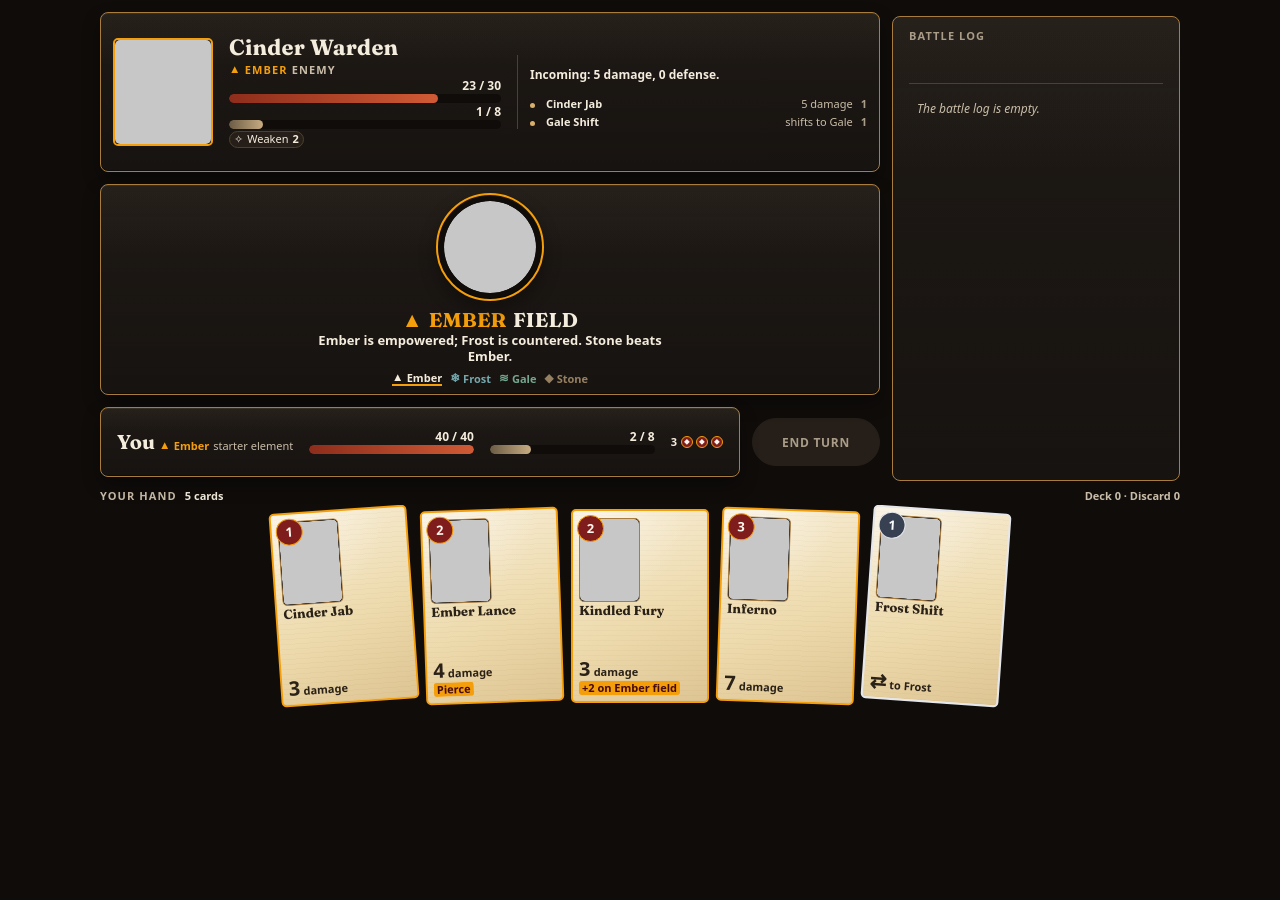
Scenario: BattleBoard state matrix › keeps ended-battle cards inspectable while Play is disabled
Click the button with aria-label "1 energy, Cinder Jab, Ember attack, 3 damage" at (344,606), box [268,504,420,708]
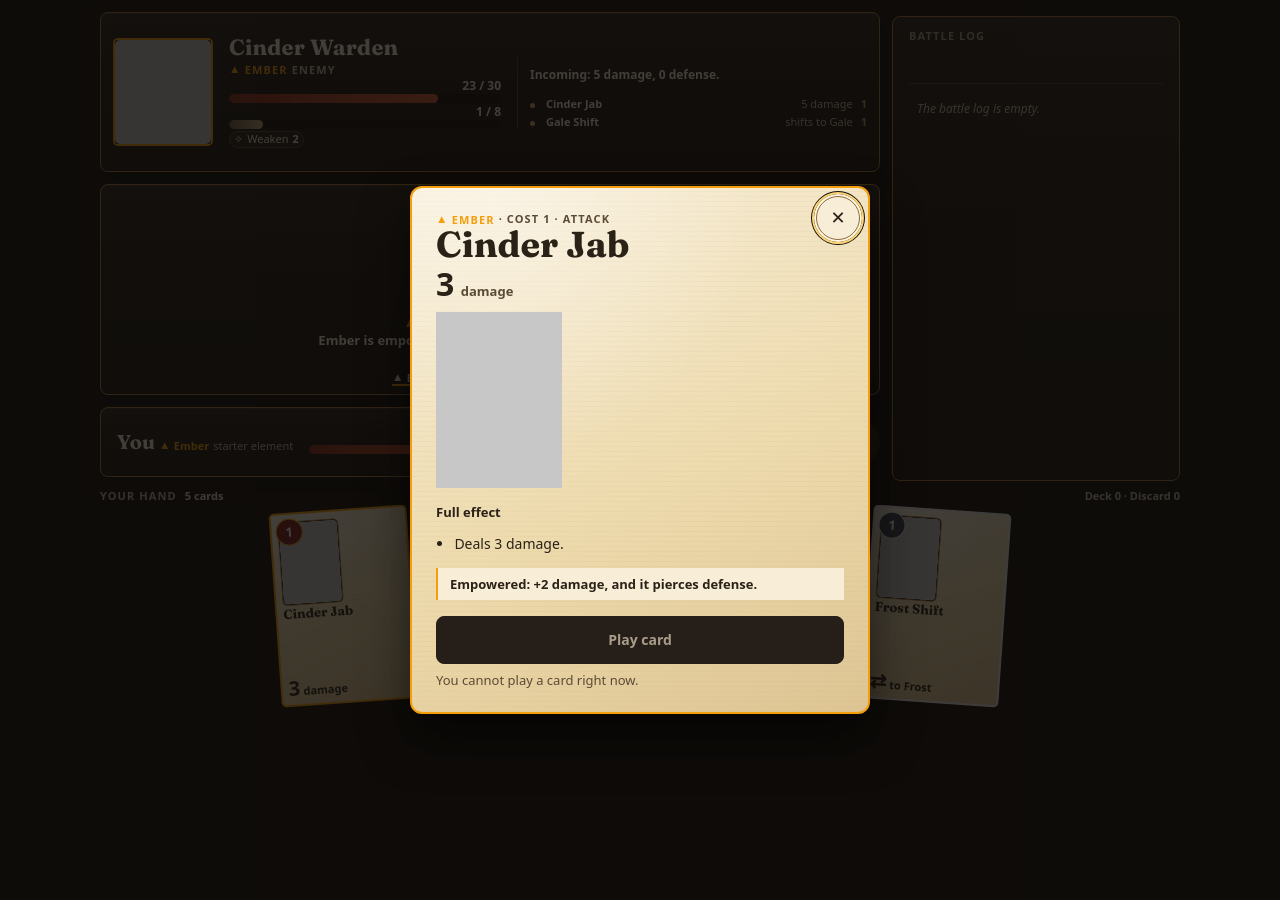
Result: the button "Play card" is disabled at [436,616,844,664]
Result: the dialog "Cinder Jab" shows "You cannot play a card right now." at [436,671,638,689]
